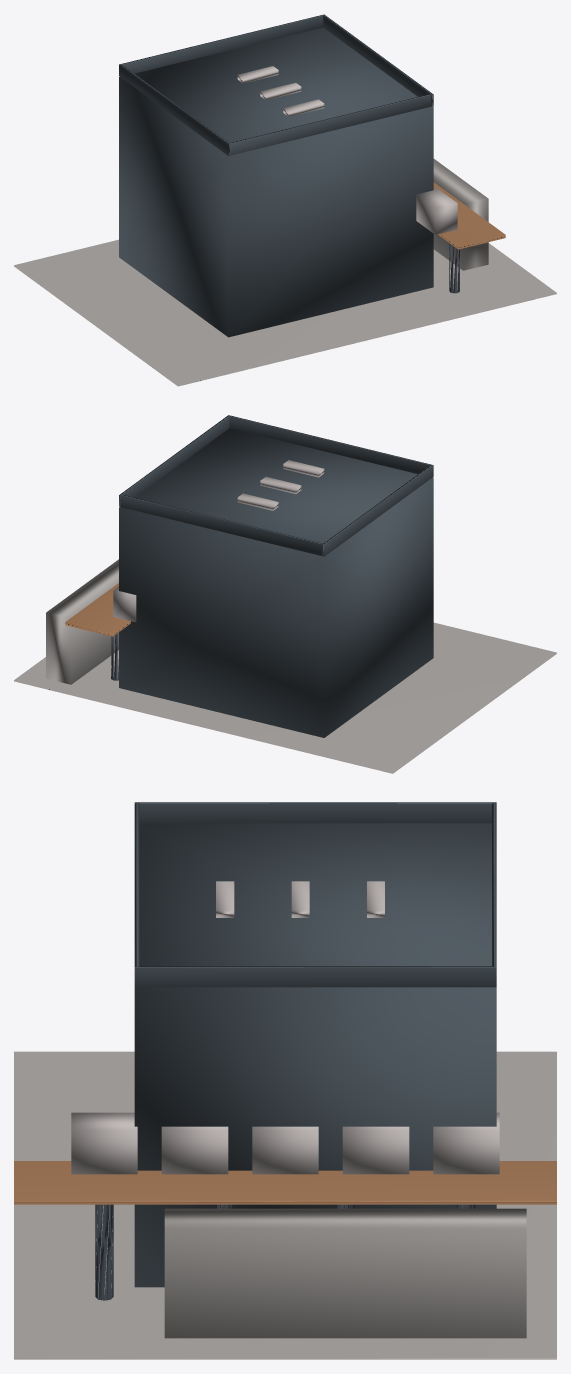
3 renders of one model, top to bottom at view 1: azimuth 30°, elevation 25°; view 2: azimuth 150°, elevation 25°; view 3: azimuth 270°, elevation 25°, orthographic. The views are drawn at different scales.
Visible parts, largest first — view 1: building_simplified, ground_simplified; view 2: building_simplified, ground_simplified; view 3: building_simplified, ground_simplified.
Boxes of the visible parts, x1,y1,x2,y2 form: building_simplified: [119, 14, 505, 337]; ground_simplified: [14, 239, 556, 386]; building_simplified: [46, 415, 433, 737]; ground_simplified: [14, 622, 556, 773]; building_simplified: [14, 802, 556, 1338]; ground_simplified: [14, 1051, 556, 1359].
Bounding box in the file's own units: 48 × 23.5 × 36.
Materials: 2 (2 with a texture image).
